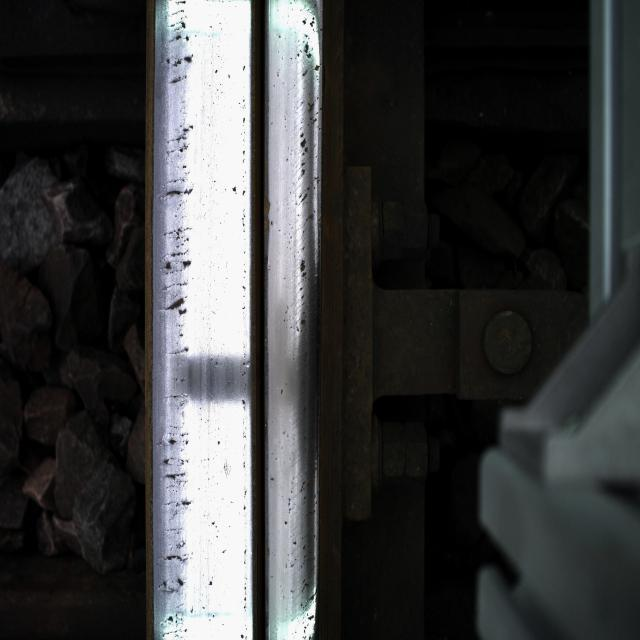scar: (157, 0, 205, 614)
